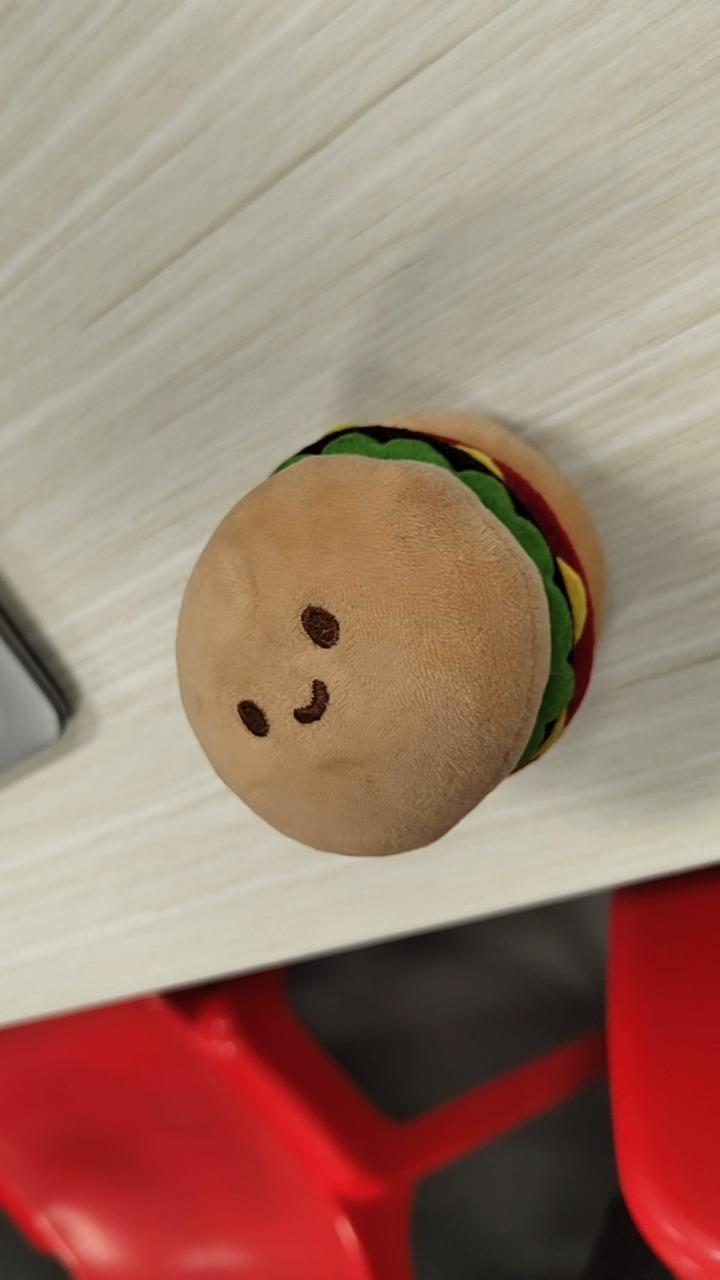hamburger: (173, 407, 606, 858)
